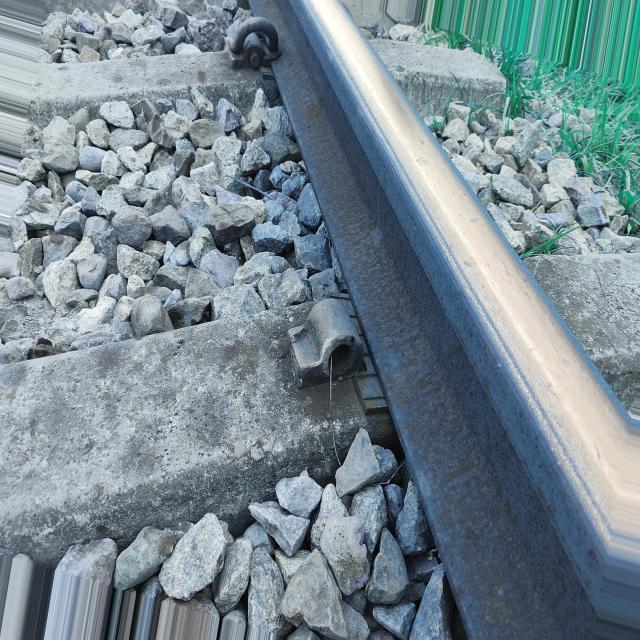Good Fasteners: (227, 17, 281, 69)
Missing Fastener: (265, 287, 377, 406)
